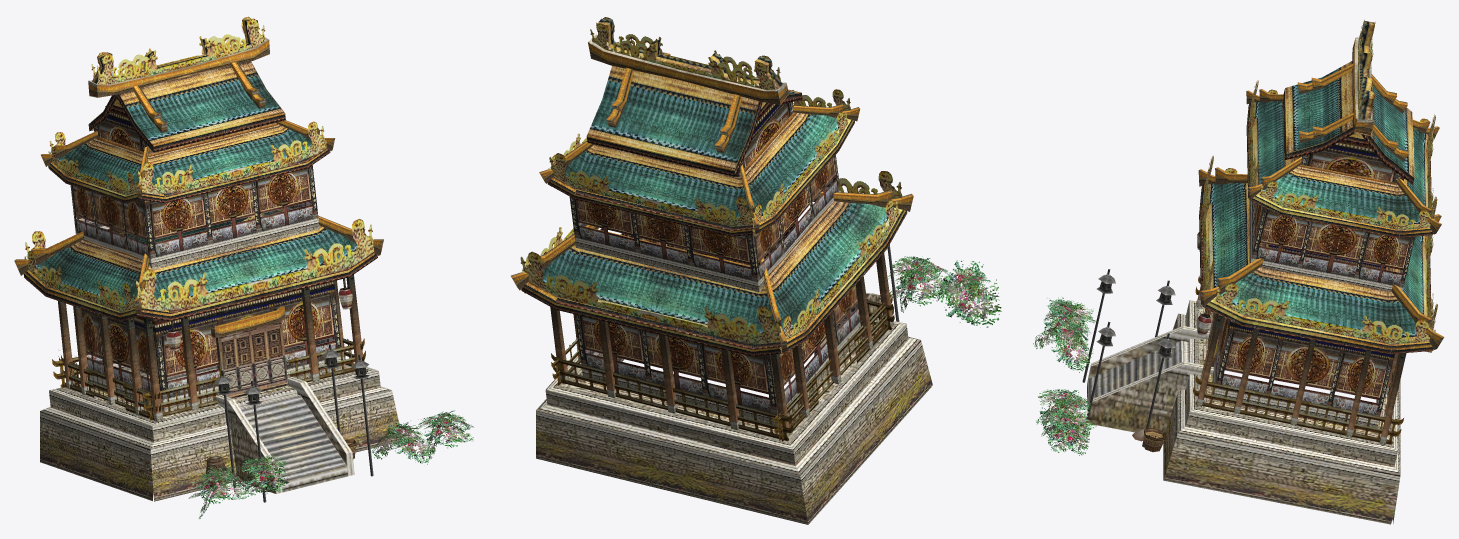
Rendered from confucian_academy.fbx.
The picture shows the model from 3 angles, left to right: view 1: azimuth 30°, elevation 25°; view 2: azimuth 150°, elevation 25°; view 3: azimuth 270°, elevation 25°; orthographic projection. The views are drawn at different scales.
Parts seen in each view (by area): view 1: Object01, Object03, Object02; view 2: Object01, Object03; view 3: Object01, Object03, Object02.
Boxes of the visible parts, x1,y1,x2,y2 form: Object01: [14, 16, 473, 518]; Object03: [70, 165, 341, 412]; Object02: [166, 278, 373, 502]; Object01: [511, 17, 1001, 524]; Object03: [569, 155, 860, 425]; Object01: [1033, 20, 1444, 524]; Object03: [1212, 199, 1415, 428]; Object02: [1082, 232, 1211, 452].
Size of the model in its own units: 9.67 by 12.06 by 13.18.
2 materials, 2 textured.
